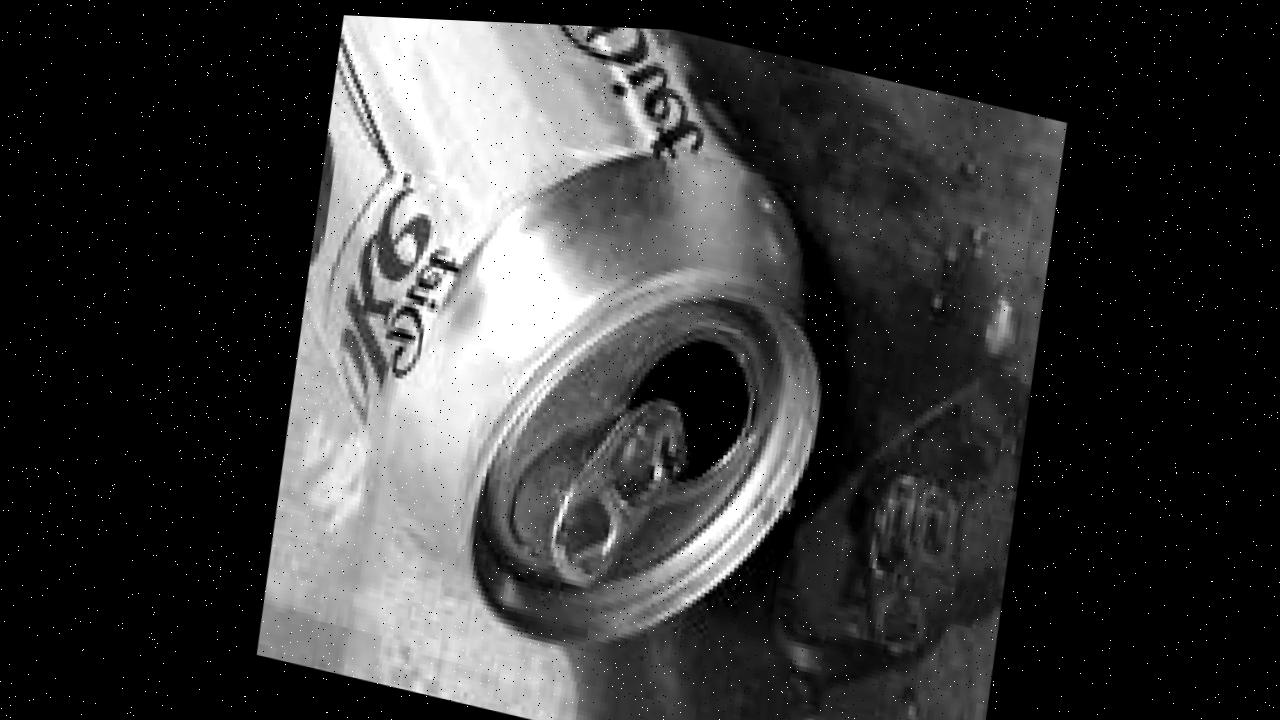drinks Stains: (475, 17, 1096, 720)
